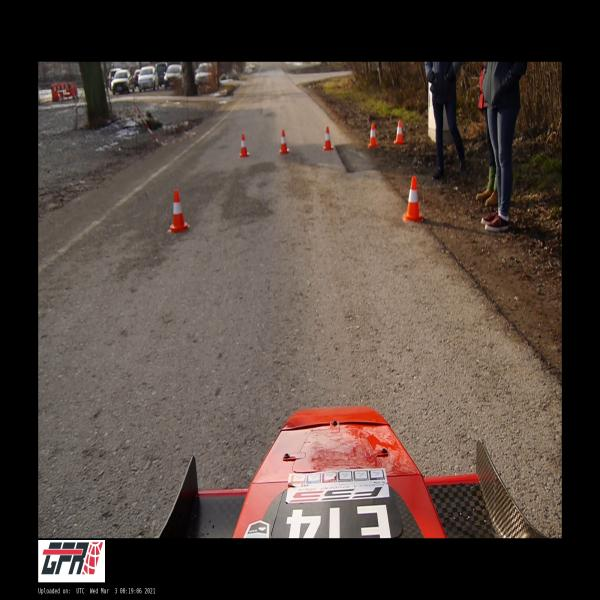orange_cone: (168, 190, 189, 233), (403, 176, 422, 220), (367, 123, 378, 147), (239, 134, 250, 156), (280, 130, 290, 154), (324, 127, 334, 149), (395, 120, 404, 142)
